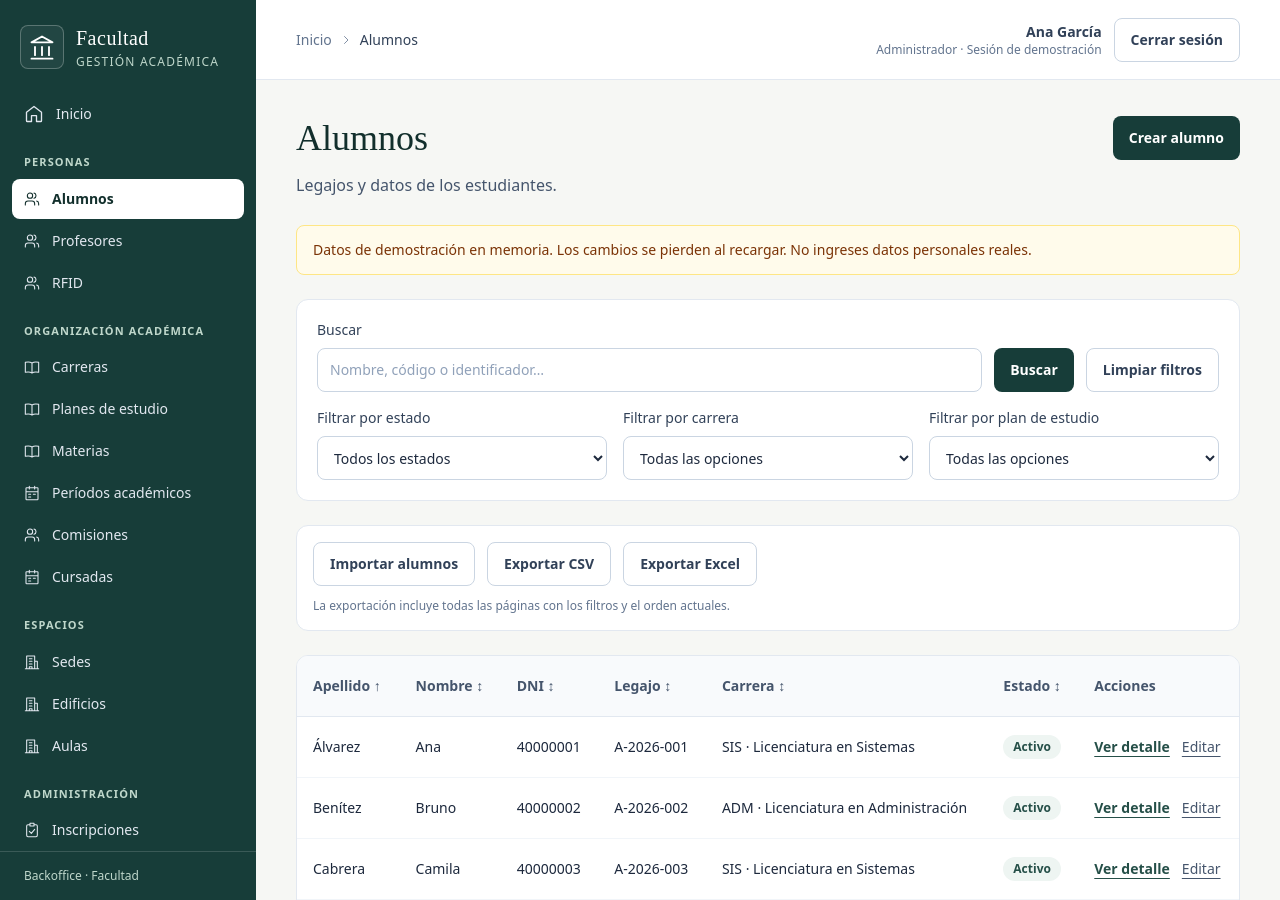
Test: Flujos de autenticación › limpia datos consultados al cerrar sesión
Click the button "Cerrar sesión". click: {"x": 1177, "y": 40}
box: [1114,18,1240,62]
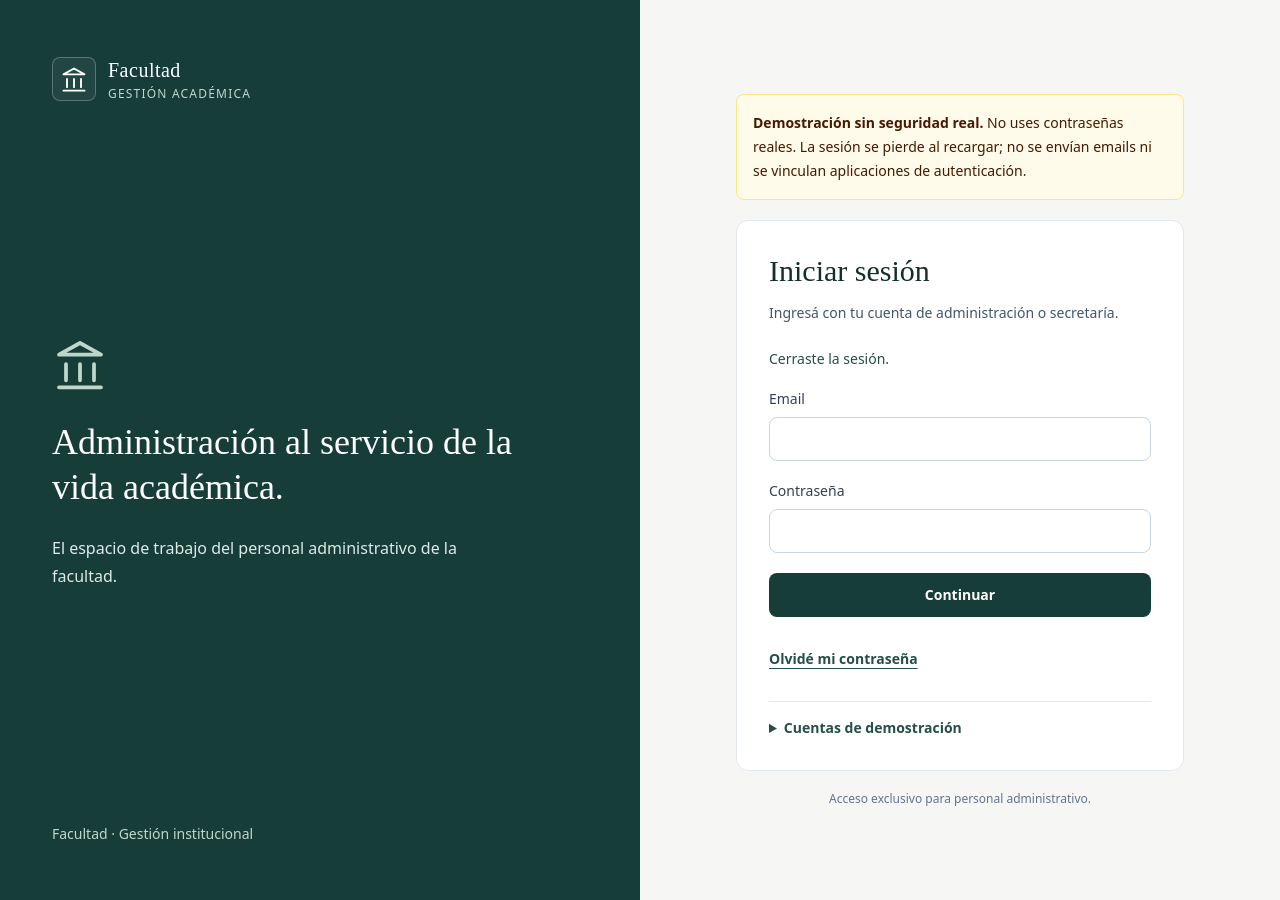
Check: the heading "Iniciar sesión" is shown, box [769,254,930,286]
Check: the message shows "Cerraste la sesión", box [769,348,889,368]
